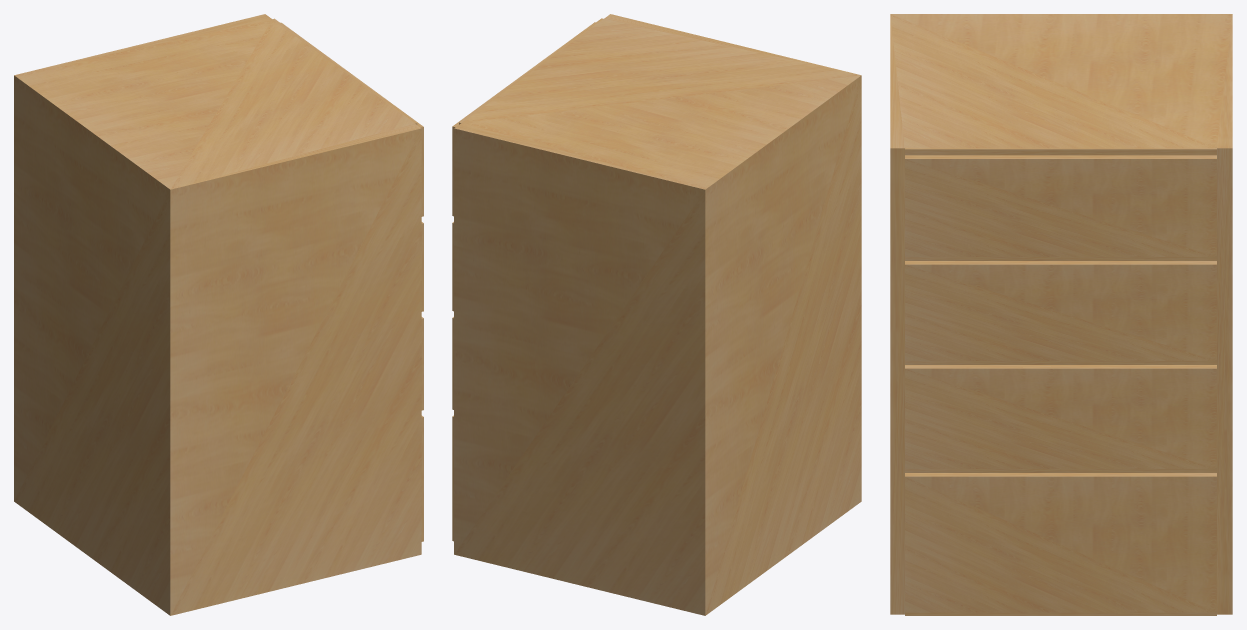
File: dresser2.dae
3 views of the same model, side by side, from view 1: azimuth 30°, elevation 25°; view 2: azimuth 150°, elevation 25°; view 3: azimuth 270°, elevation 25° (orthographic). The views are drawn at different scales.
Parts seen in each view (by area): view 1: Cube; view 2: Cube; view 3: Cube.
Part boxes in pixels (x1,y1,x2,y2): Cube: [14, 14, 423, 615]; Cube: [452, 14, 861, 615]; Cube: [890, 14, 1232, 615].
Size of the model in its own units: 1.45 by 1.51 by 2.28.
1 material, 1 textured.
